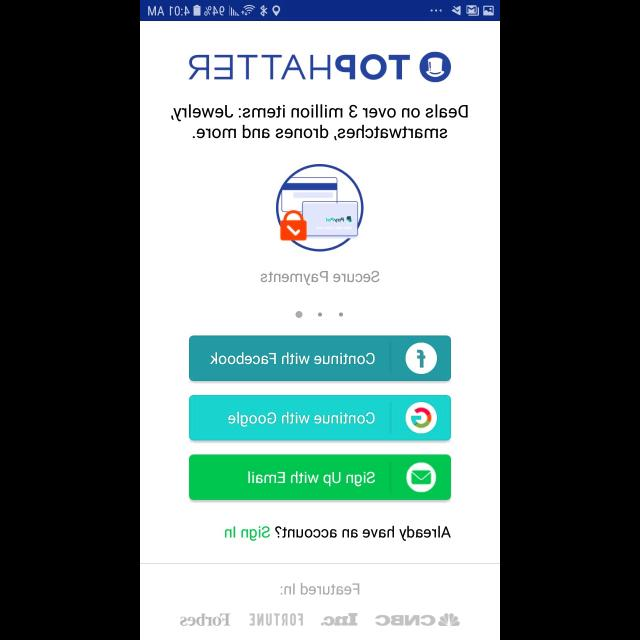image: (276, 164, 364, 252), (419, 52, 451, 84), (438, 613, 460, 627)
pageindicator: (295, 311, 343, 319)
text: (170, 105, 468, 142), (188, 54, 410, 80), (225, 526, 451, 542), (260, 270, 380, 286), (280, 582, 360, 596), (374, 614, 436, 626), (180, 613, 230, 627), (249, 614, 303, 626), (320, 613, 358, 627)
textbutton: (189, 335, 451, 381), (189, 395, 451, 441), (189, 455, 451, 501)
uppertaskbar: (140, 1, 500, 22)
